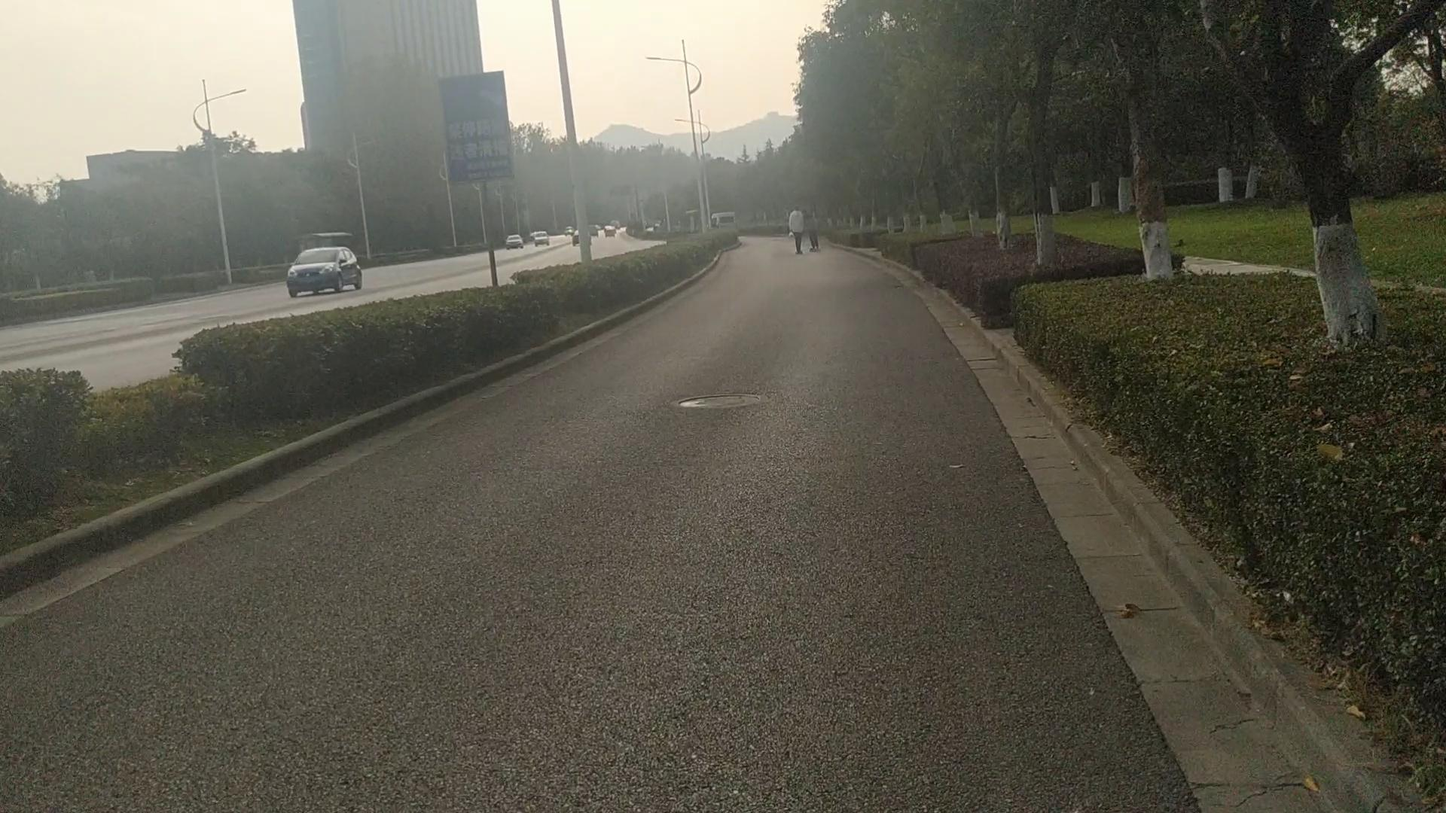car: (285, 245, 360, 297), (523, 233, 551, 246), (712, 212, 736, 227), (599, 223, 624, 237), (502, 234, 526, 248)
